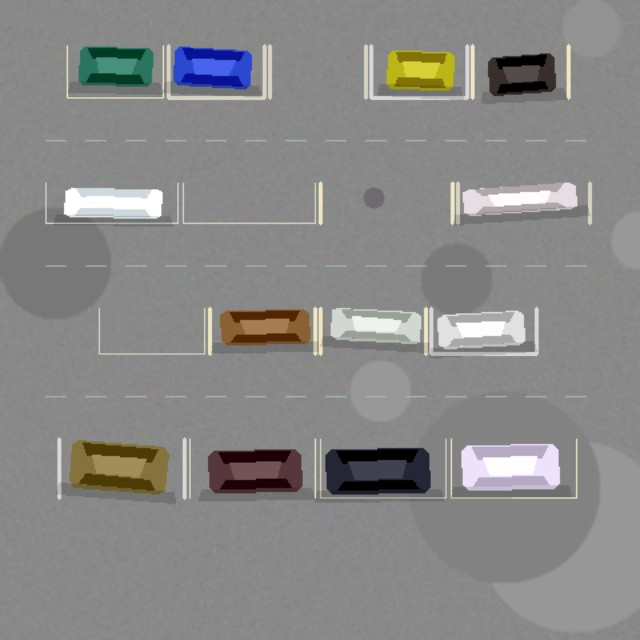space-empty: (183, 183, 315, 223), (320, 183, 452, 223), (269, 45, 365, 97), (99, 308, 204, 353)
space-occupied: (189, 439, 315, 497), (59, 439, 184, 497), (320, 439, 445, 497), (451, 439, 576, 497), (45, 183, 177, 223), (457, 183, 589, 223), (67, 45, 163, 97), (168, 45, 264, 97), (371, 45, 467, 97), (472, 45, 568, 97), (209, 308, 315, 353), (320, 308, 425, 353), (431, 308, 536, 353)
